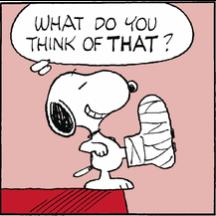snoopy: (43, 66, 178, 190)
